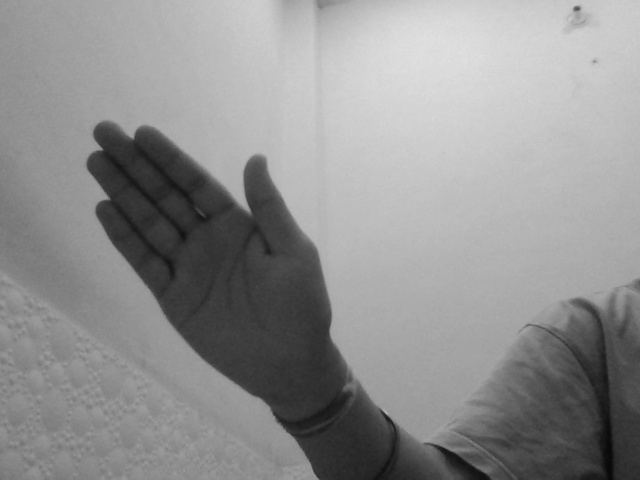Hello: (85, 114, 338, 399)
